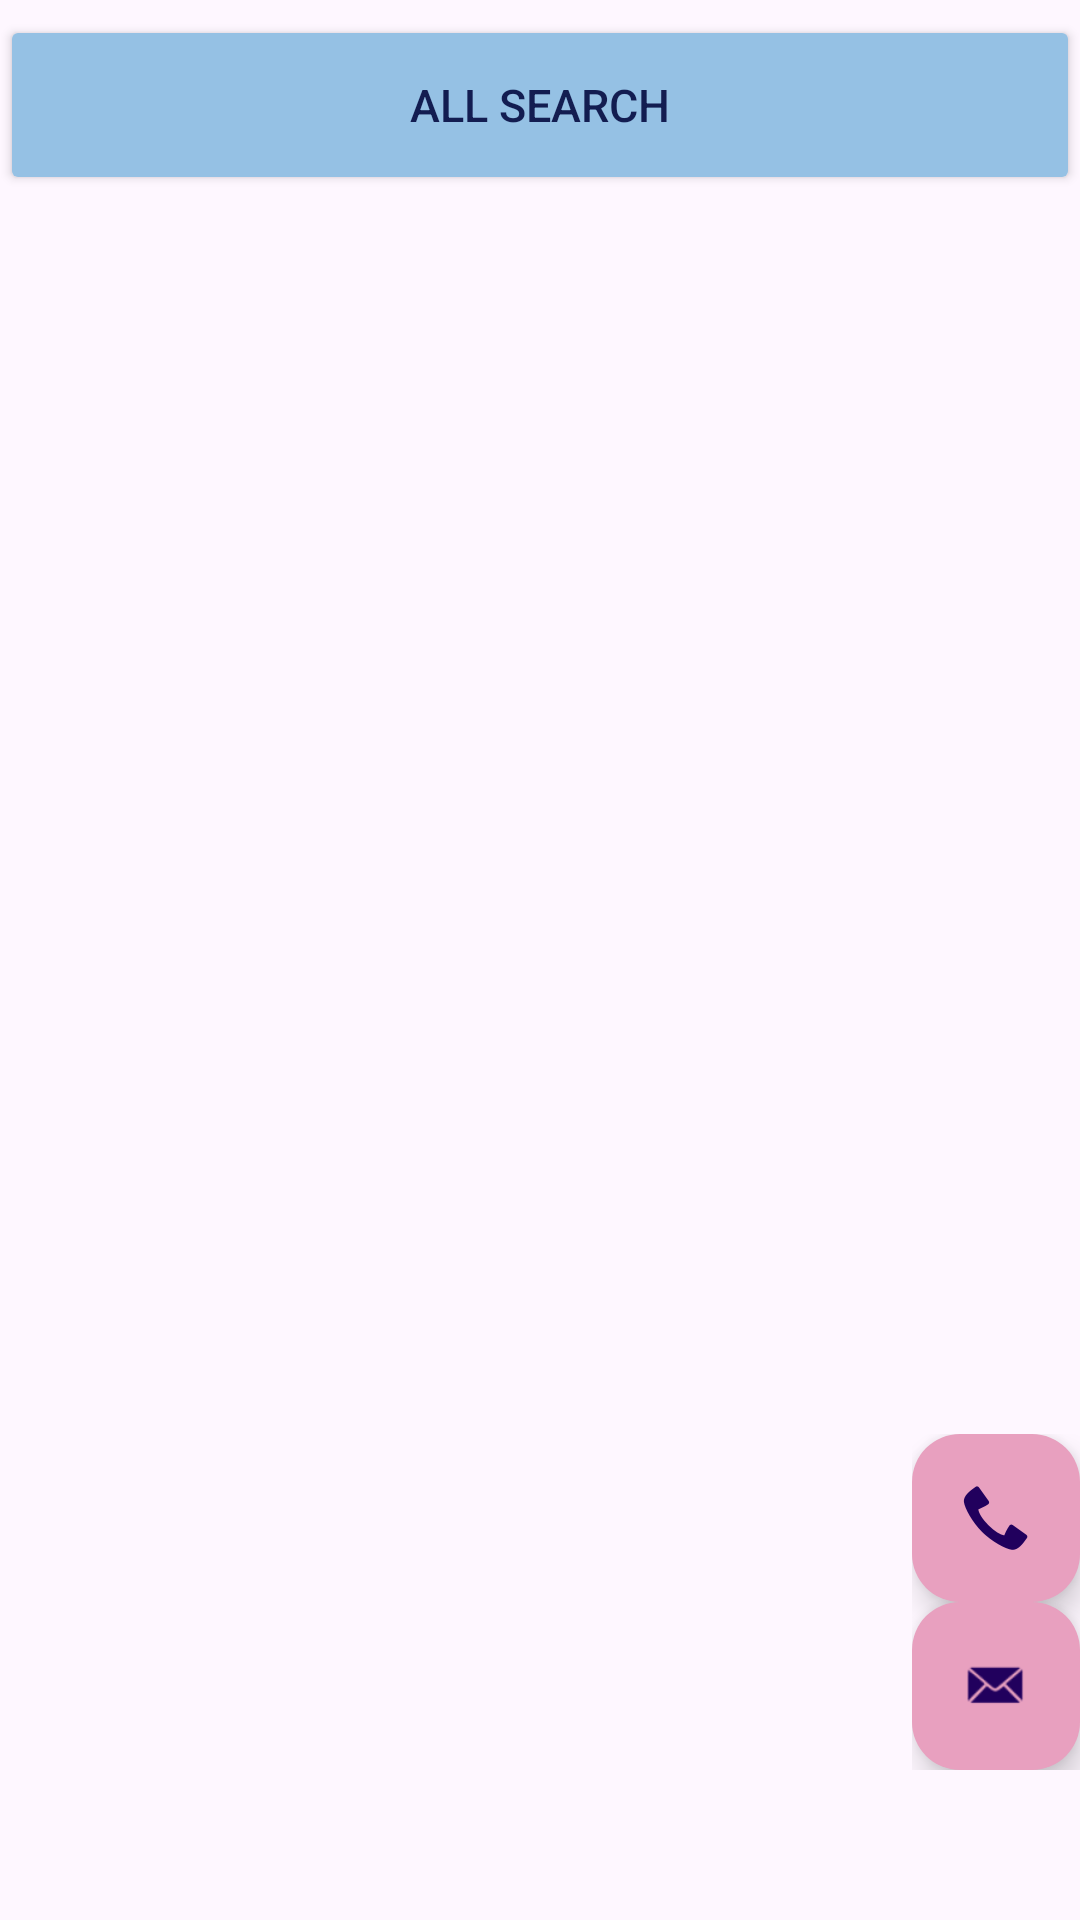

Point at icon controls on the screen. Image size 1080px×1920px, points as (x=x, y=y).
phone call: (x=996, y=1518)
sym action email: (x=996, y=1686)
